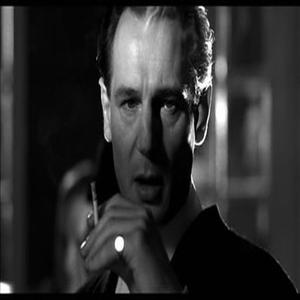cigarette: (90, 182, 99, 227)
